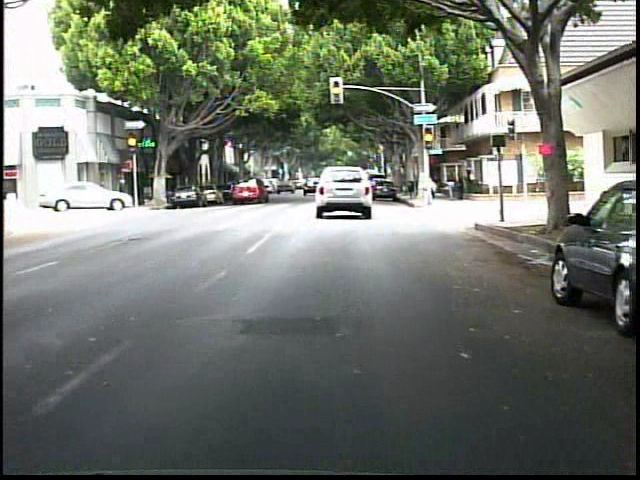person: (418, 171, 439, 210), (453, 167, 466, 204), (444, 169, 458, 202), (464, 163, 476, 196)
